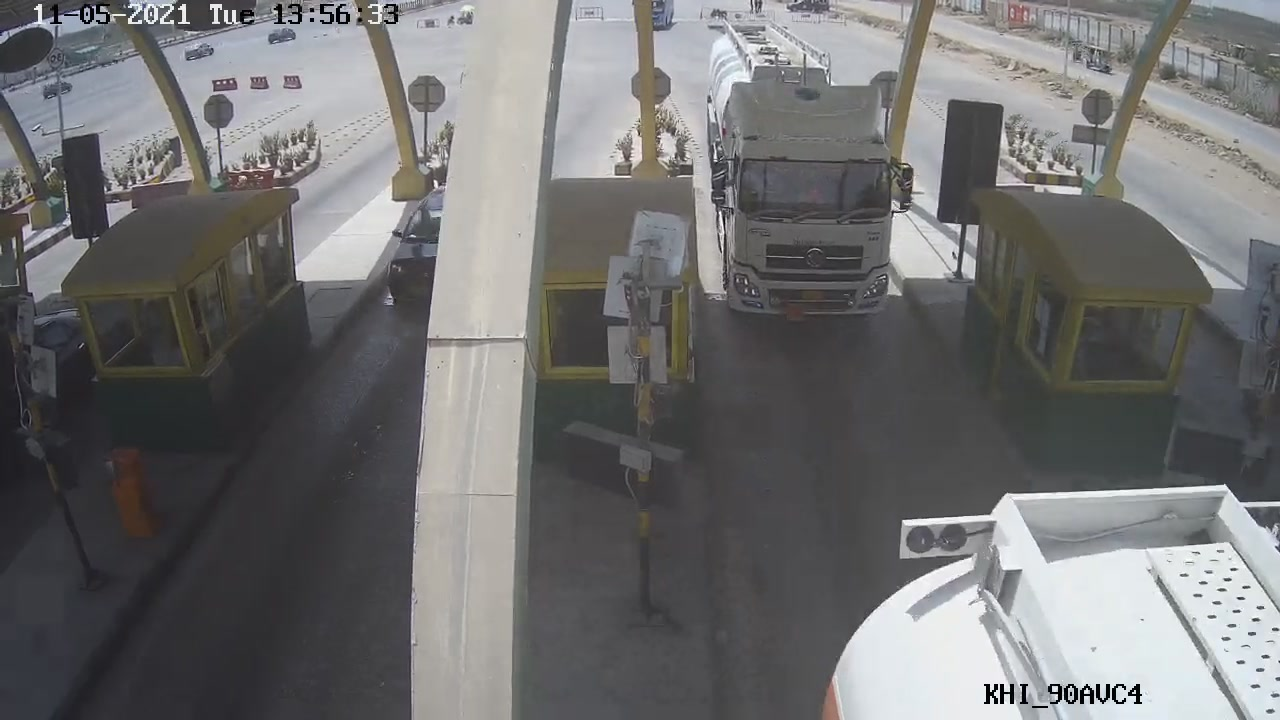F6: (695, 17, 921, 325)
